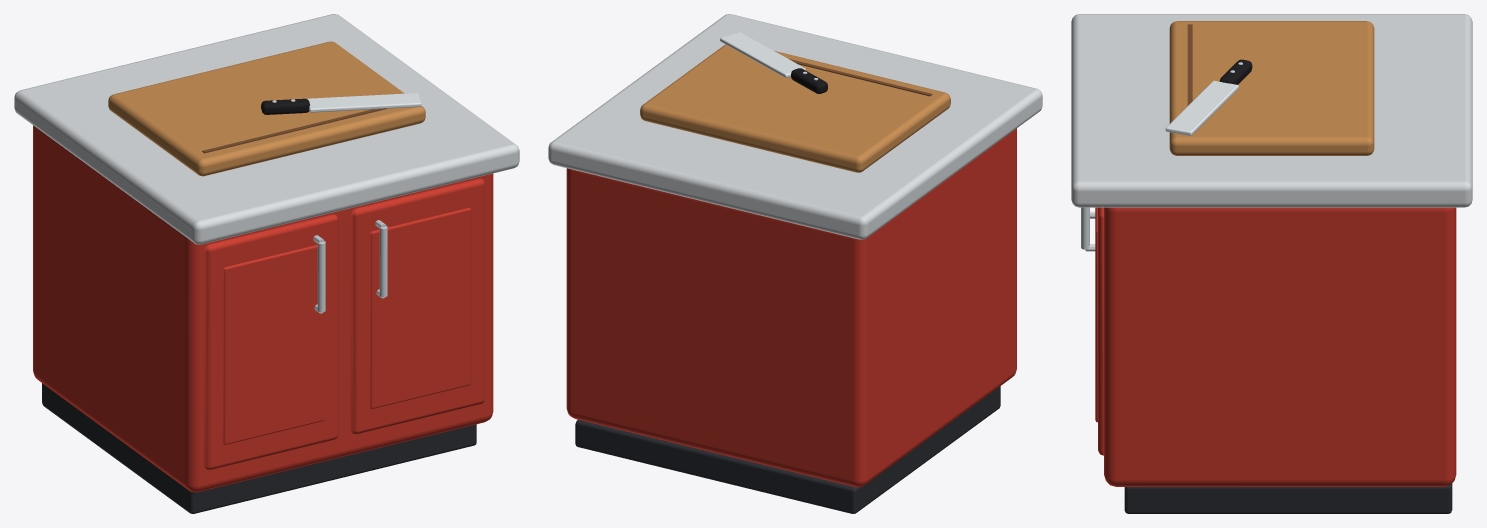
Rendered from station-board.glb.
The picture shows the model from 3 angles, left to right: view 1: azimuth 30°, elevation 25°; view 2: azimuth 150°, elevation 25°; view 3: azimuth 270°, elevation 25°; orthographic projection. The views are drawn at different scales.
Visible parts, largest first — view 1: Board, KnifeMesh; view 2: Board, KnifeMesh; view 3: Board, KnifeMesh.
Boxes of the visible parts, box(x1,y1,x2,y2) form: Board: box(14, 14, 519, 513); KnifeMesh: box(261, 93, 421, 114); Board: box(548, 14, 1042, 513); KnifeMesh: box(720, 32, 827, 93); Board: box(1071, 14, 1472, 513); KnifeMesh: box(1165, 59, 1252, 135).
Size of the model in its own units: 1 by 1 by 0.98.
